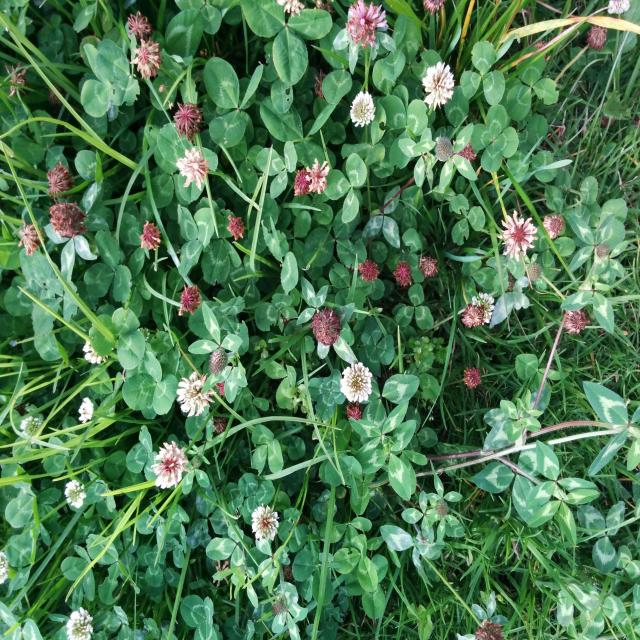Four Leaf Clover: (472, 104, 519, 172)
